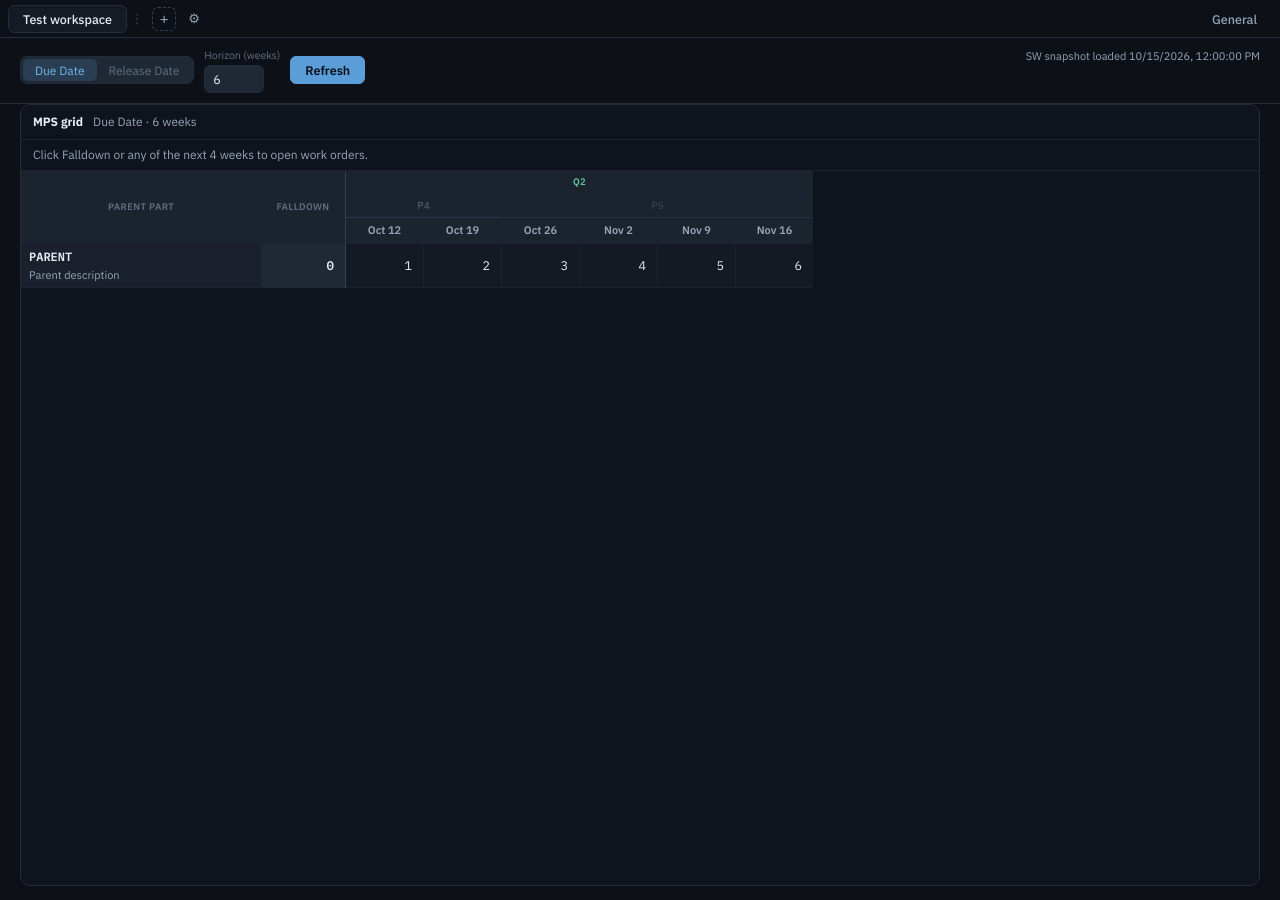
Scenario: Stage 22 MPS navigation (offline API fixtures) › a subsequent Escape still cancels a root pending entry and ignores its late reply
Click the cell with class "mps-cell" showing "1".
click(384, 266)  # box [345, 244, 423, 288]
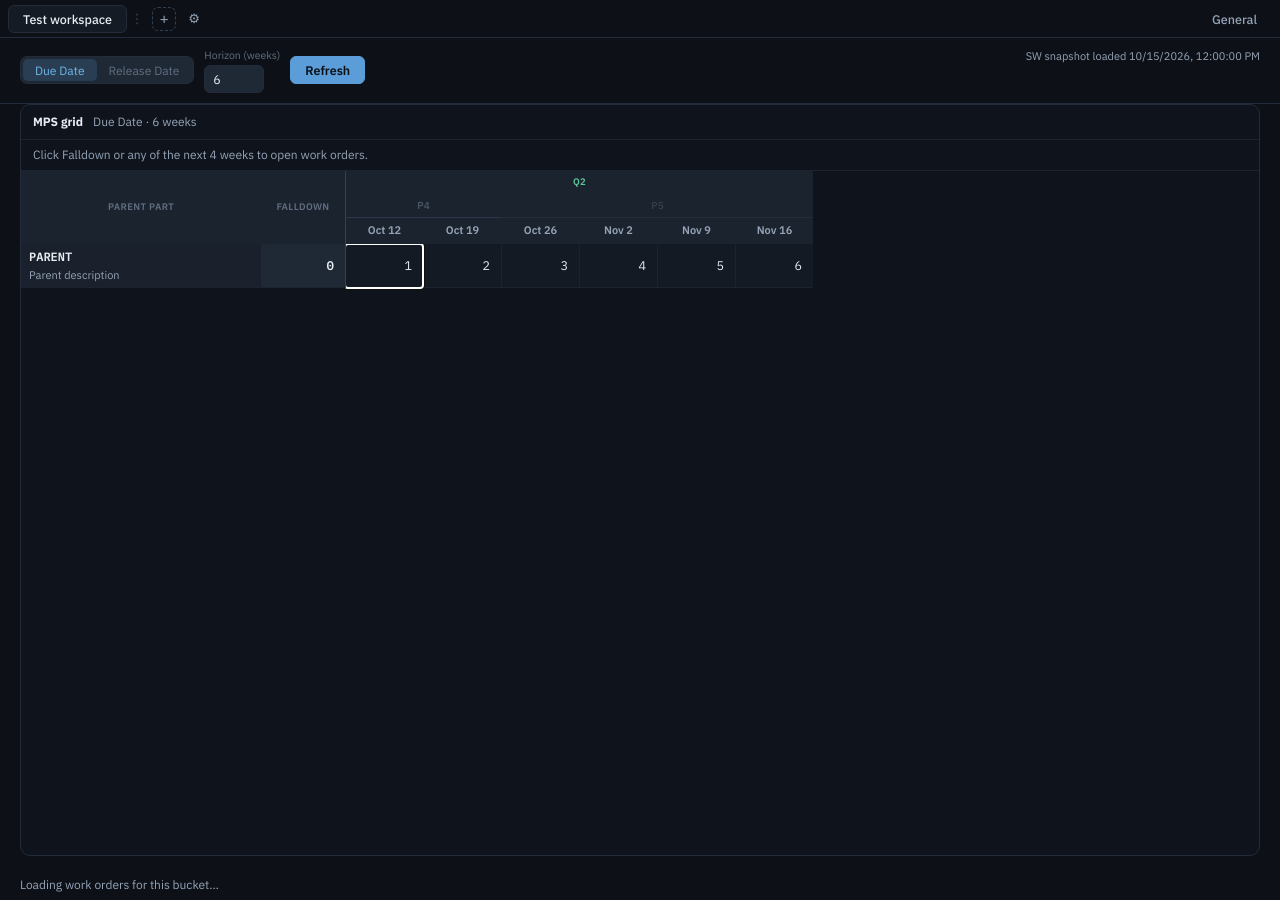
Click the button named "Workspace actions for Test workspace".
click(137, 18)  # box [128, 8, 146, 28]
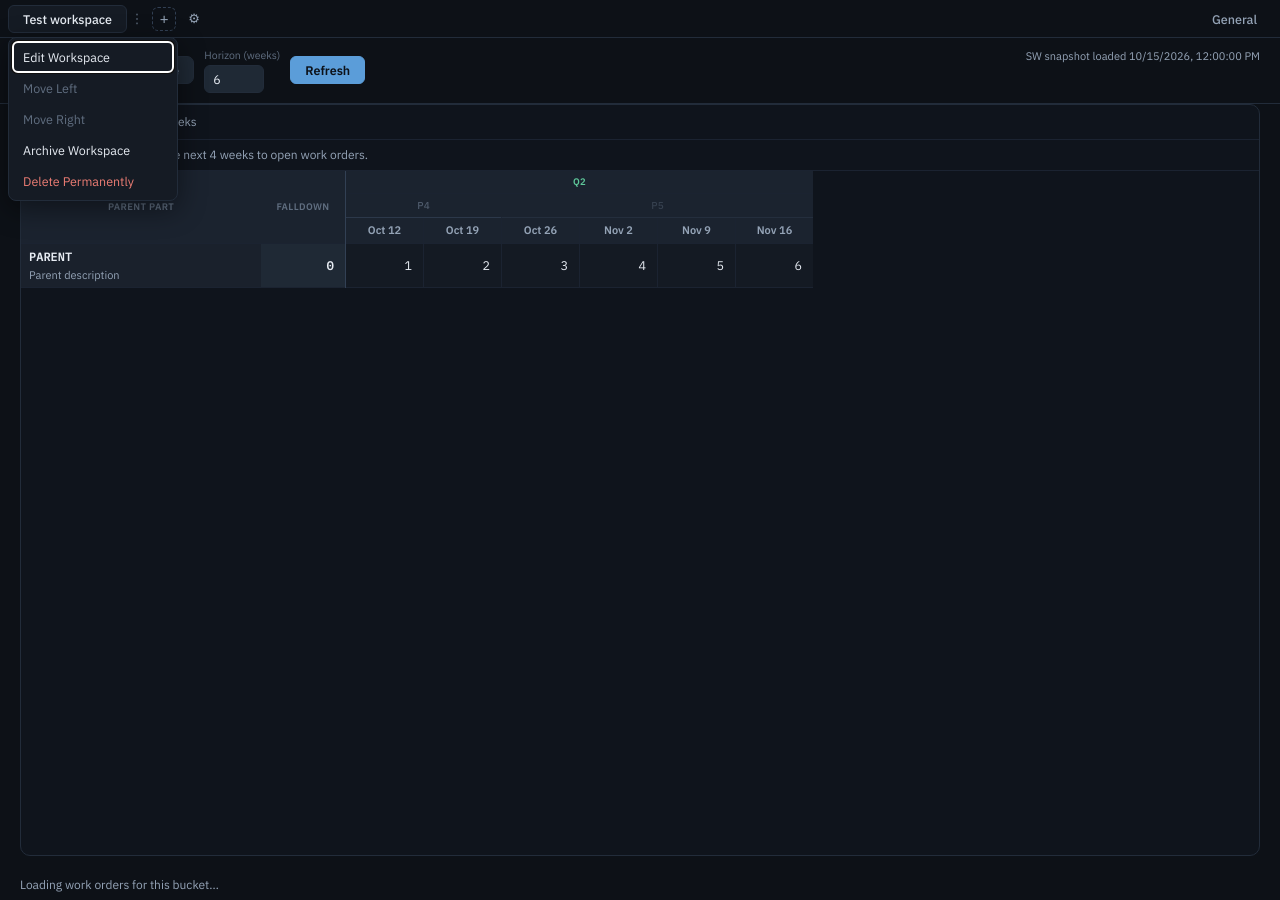
Press Escape
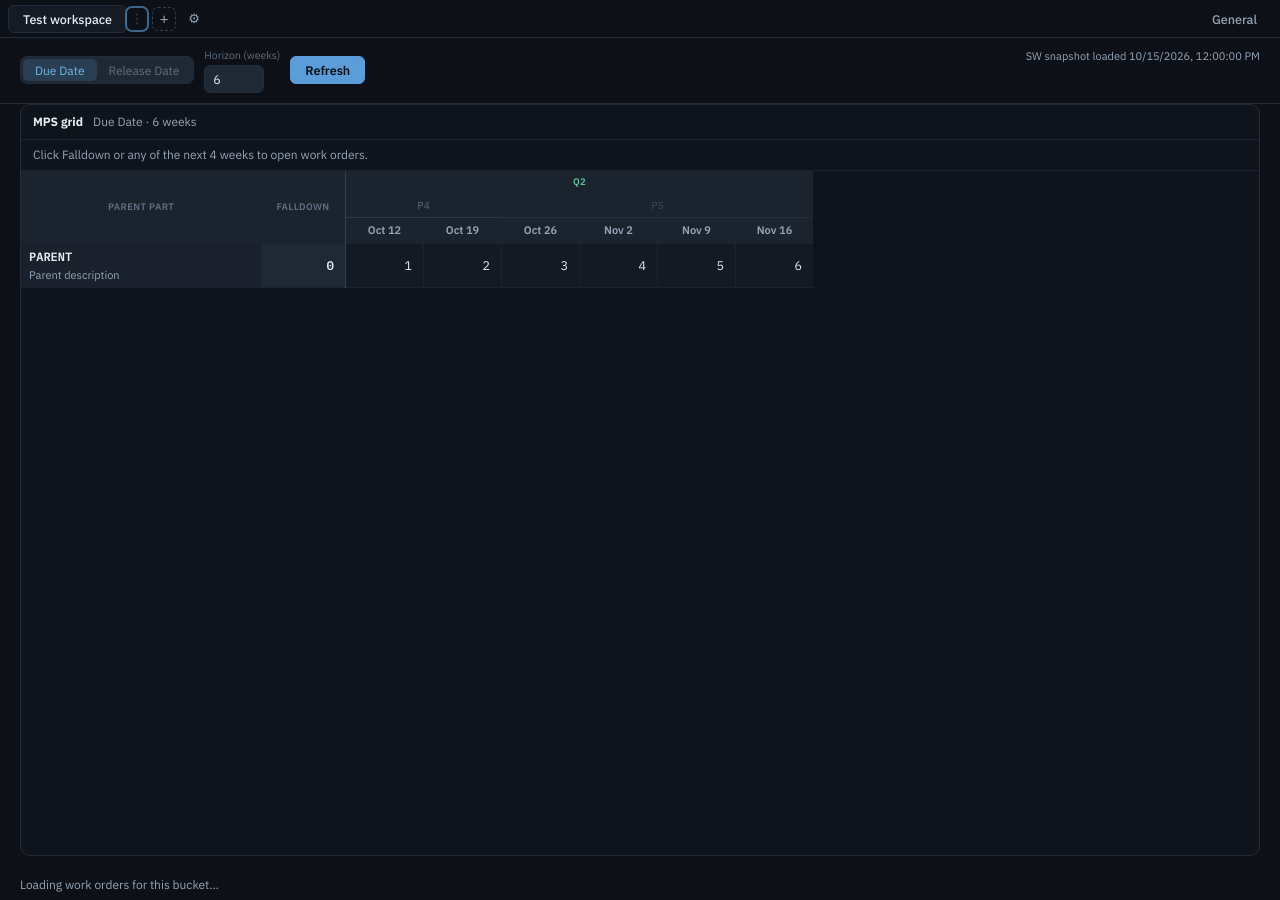
Expected: the message shows "Loading work orders", [20, 877, 219, 892]
Press Escape
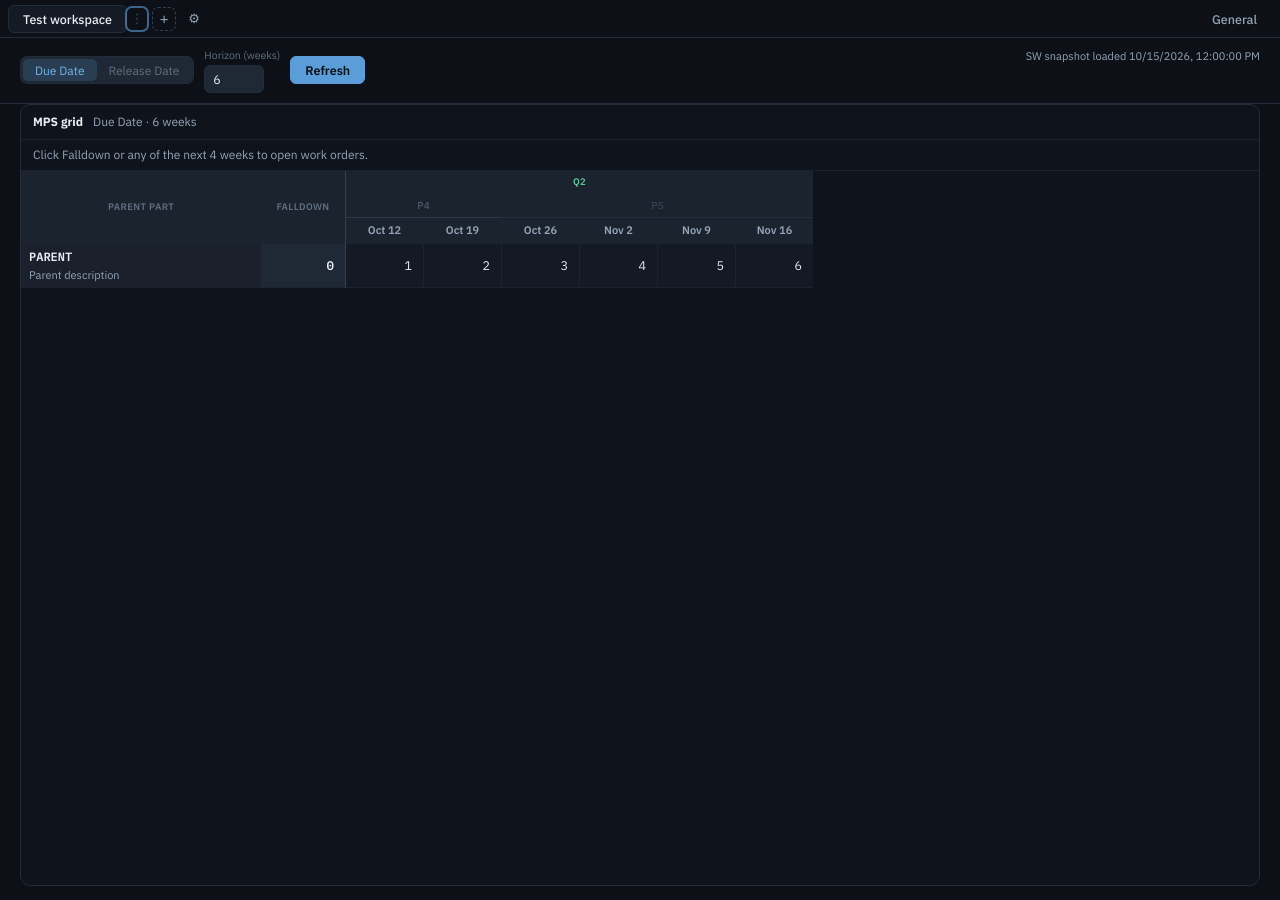
Expected: the message "Loading work orders for this bucket…" is gone
